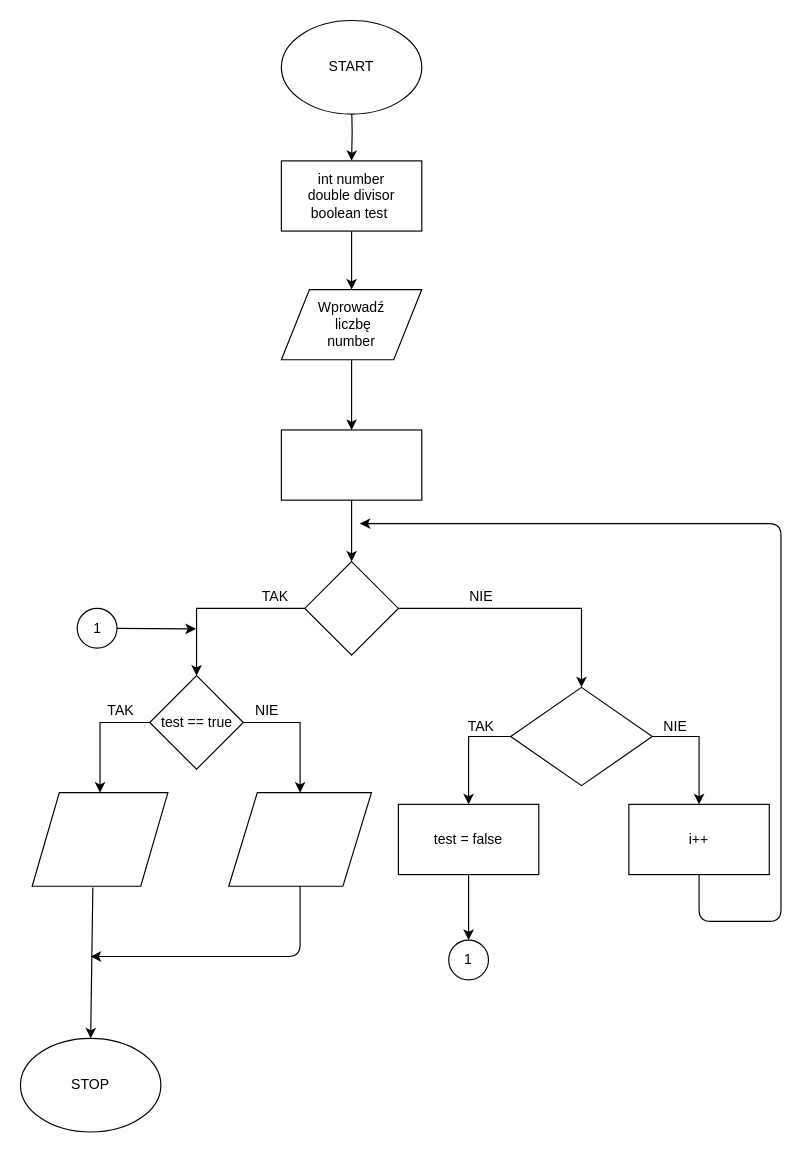
The diagram is 811 pixels wide and 1152 high, and some of its shapes have lost their labels. The centre of each missing label's shape, as x and y in pixels:
divisor = sqrt(number) test = true int i = 2: the point at 351,464
i <= divisor: the point at 351,607
number%i==0: the point at 581,736
Wyświetl: Podana liczba jest liczbą pierwszą.: the point at 299,839
Wyświetl: Podana liczba NIE jest liczbą pierwszą.: the point at 99,839
